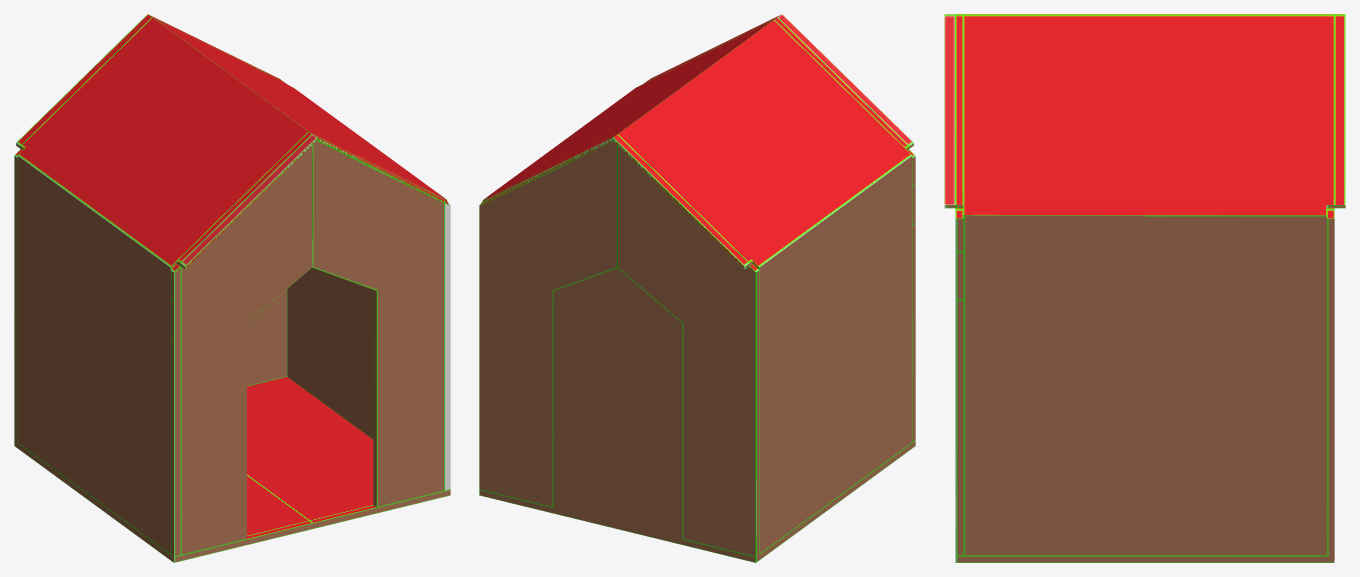
File: casinhaCao.FBX
3 renders of one model, left to right at view 1: azimuth 30°, elevation 25°; view 2: azimuth 150°, elevation 25°; view 3: azimuth 270°, elevation 25°, orthographic. The views are drawn at different scales.
Bounding box in the file's own units: 19.69 × 26.85 × 20.83.
Materials: 1 (1 with a texture image).
